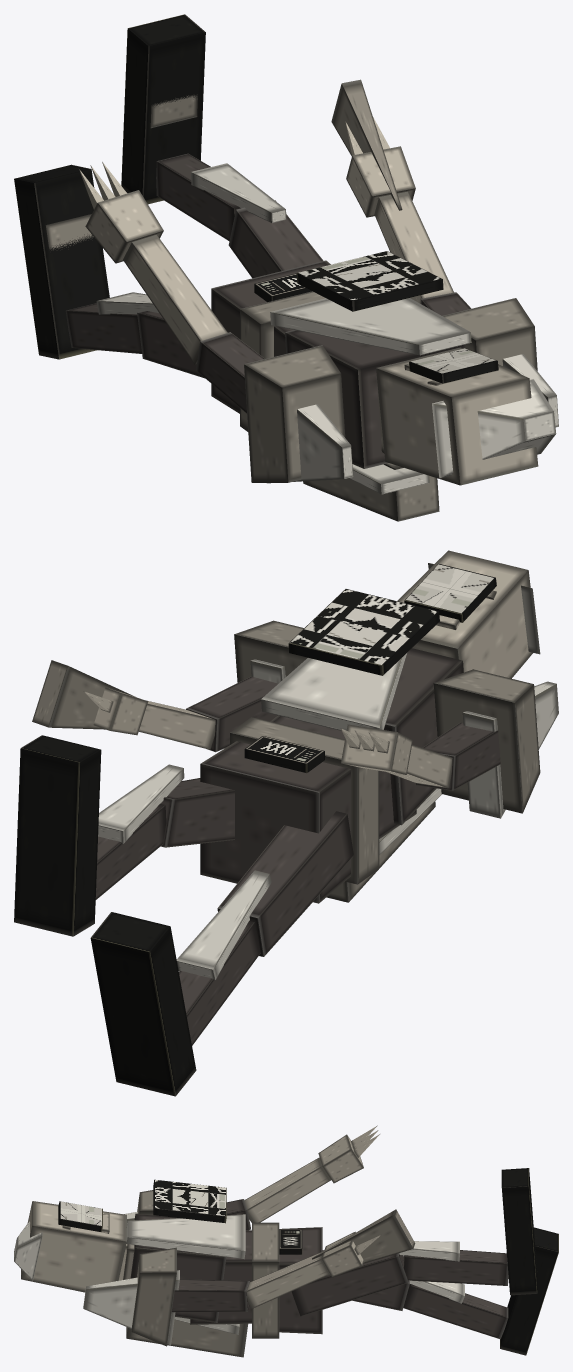
The model's file is velaroth_move.obj.
3 renders of one model, top to bottom at view 1: azimuth 30°, elevation 25°; view 2: azimuth 150°, elevation 25°; view 3: azimuth 270°, elevation 25°, orthographic. The views are drawn at different scales.
Parts seen in each view (by area): view 1: velaroth_move; view 2: velaroth_move; view 3: velaroth_move.
Boxes of the visible parts, bbox=[...] form: velaroth_move: bbox=[14, 14, 558, 521]; velaroth_move: bbox=[14, 550, 558, 1096]; velaroth_move: bbox=[14, 1125, 558, 1357].
Size of the model in its own units: 0.4443 by 0.4135 by 1.03.
1 material, 1 textured.
